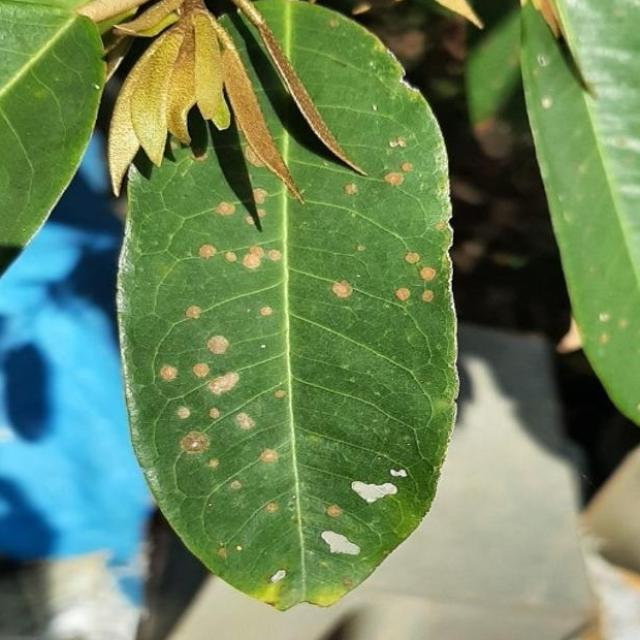Algal Leaf Spot: (112, 0, 460, 610)
